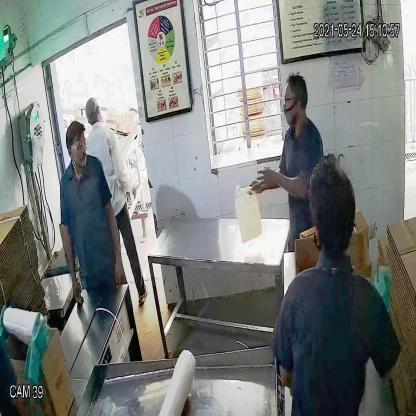goggles: (280, 89, 306, 111), (65, 132, 88, 153)
